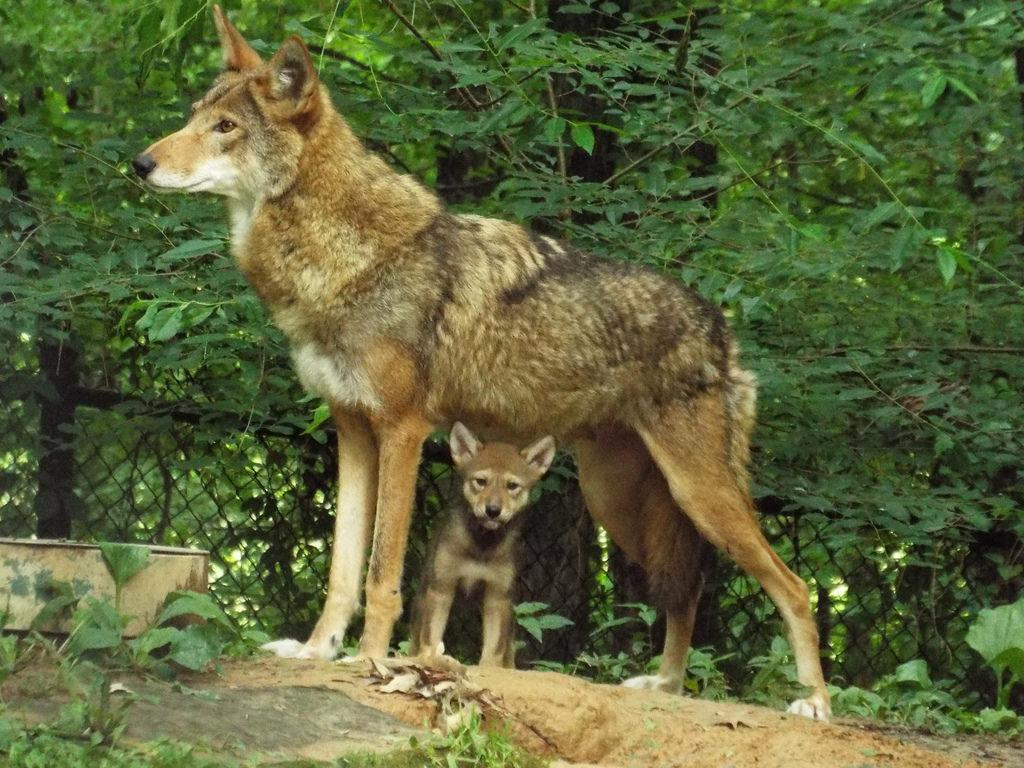Wolf: (128, 3, 838, 719), (413, 416, 563, 674)
